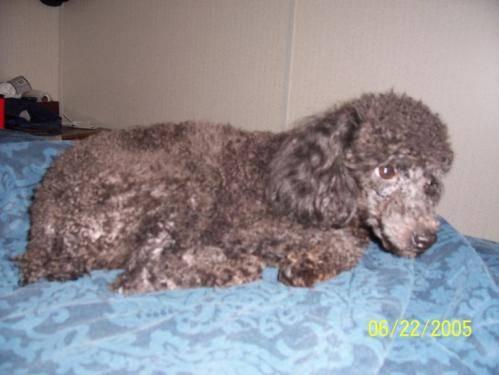dog: (14, 92, 452, 291)
